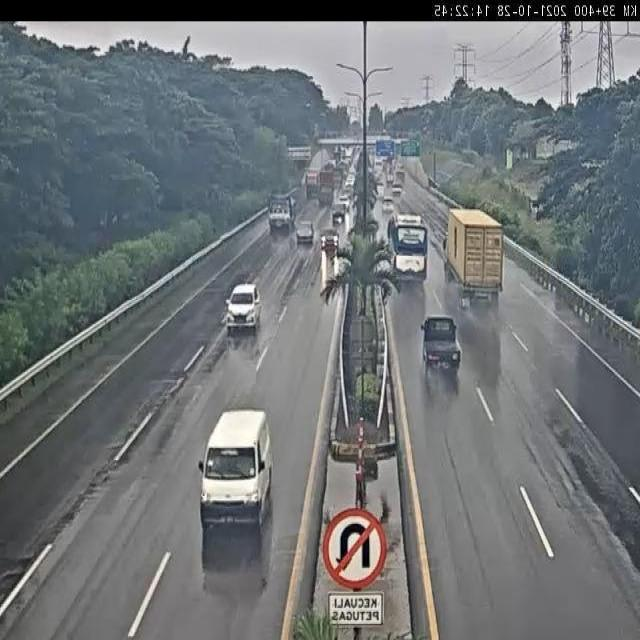Bus: (388, 213, 429, 284)
Car: (225, 281, 263, 332), (320, 228, 339, 255), (295, 220, 314, 244), (382, 198, 394, 215), (338, 191, 350, 208), (345, 174, 356, 190)
Truck: (444, 208, 505, 309), (421, 315, 460, 371), (267, 192, 295, 232), (317, 165, 337, 205), (305, 170, 320, 200)
Van: (200, 407, 273, 533)
